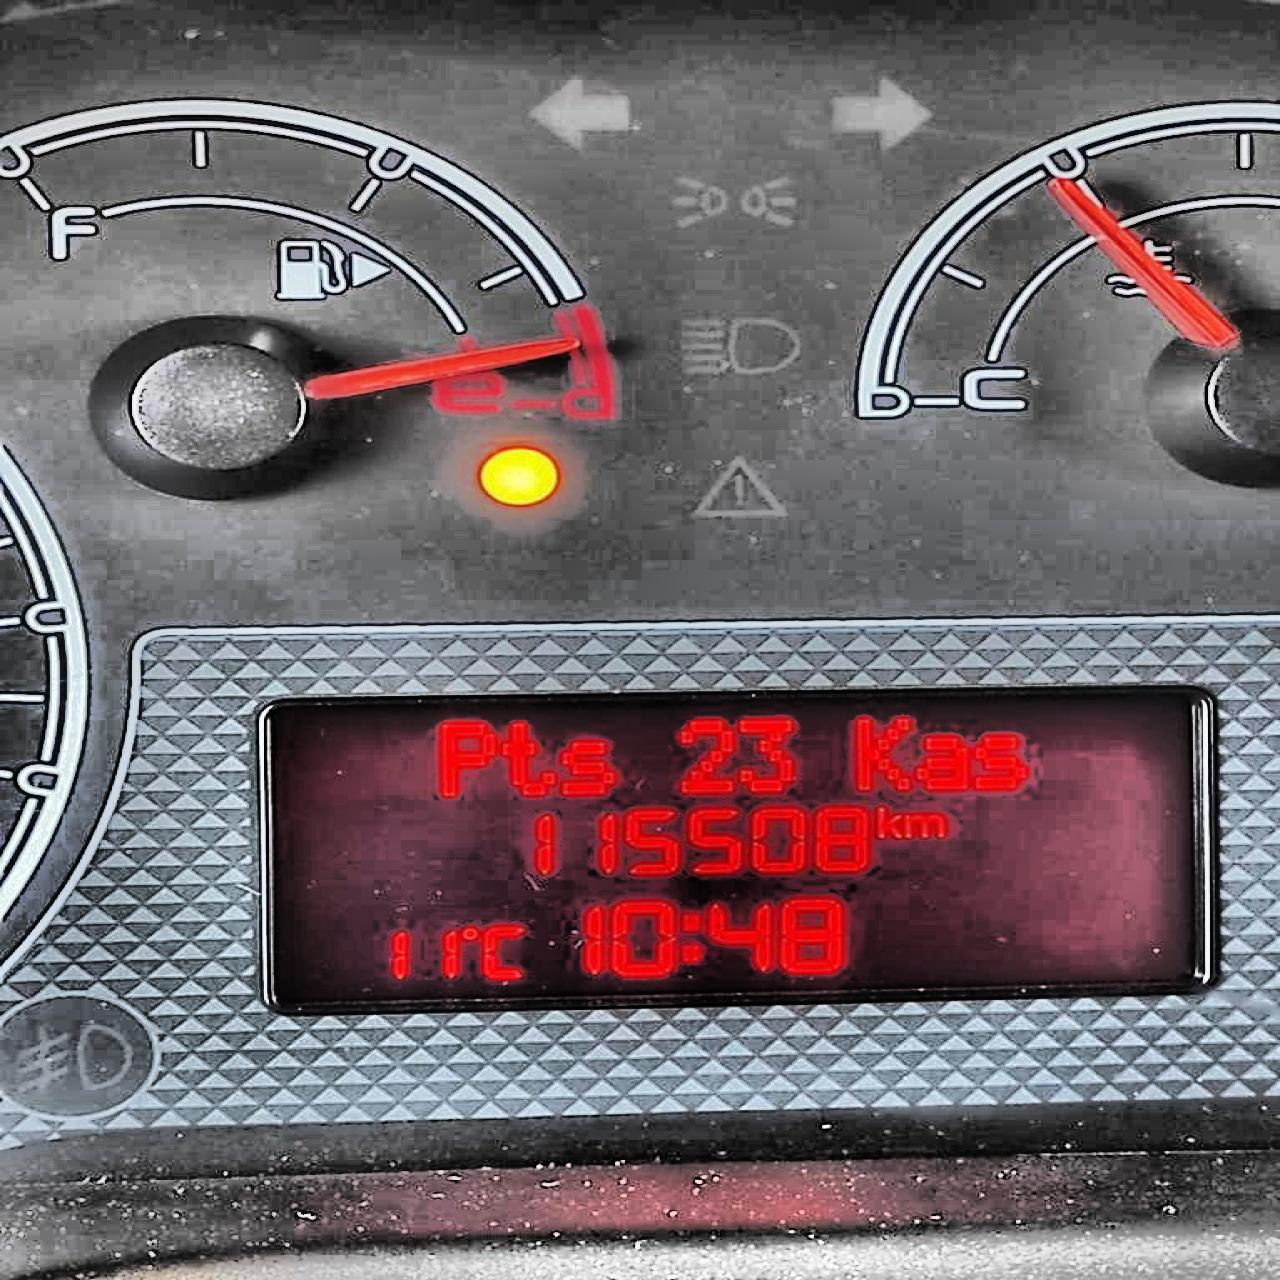0: (608, 898, 676, 979), (747, 805, 806, 874)
1: (578, 901, 605, 978), (594, 811, 618, 874), (531, 811, 554, 874), (388, 928, 409, 981), (440, 927, 458, 980)
2: (675, 716, 735, 794)
3: (737, 716, 795, 794)
4: (707, 901, 772, 974)
5: (620, 808, 680, 874), (685, 806, 742, 874)
8: (775, 897, 844, 974), (812, 805, 871, 873)
X: (434, 720, 498, 799), (852, 715, 912, 791), (498, 720, 557, 796), (559, 737, 617, 797), (912, 733, 971, 790), (971, 734, 1028, 791), (478, 924, 525, 979), (903, 811, 947, 839), (679, 912, 703, 962), (872, 805, 903, 839)
odometer: (252, 681, 1224, 1016)
